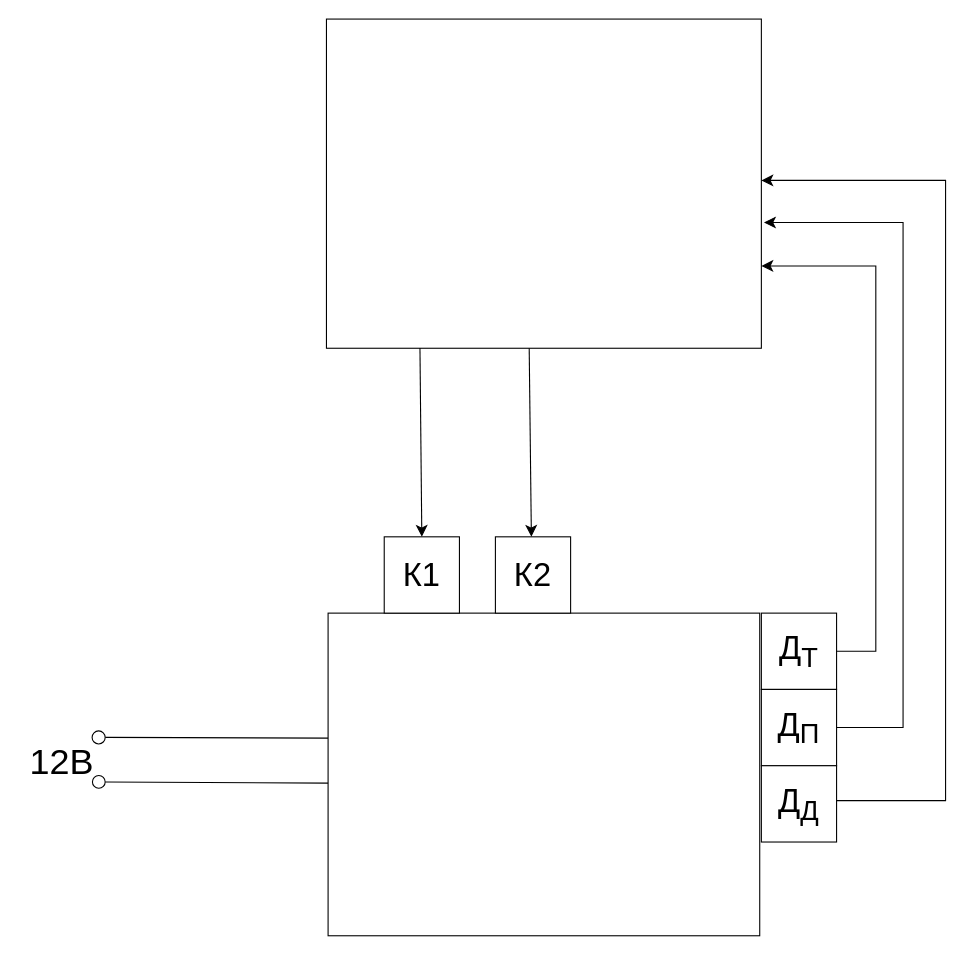
This 976x955 diagram has some shape labels left out. The shapes that lost their labels are listed below. From the top down, each one's centre as x and y in pixels, then its label:
At (x=543, y=183): "УУ".
At (x=543, y=774): "ОУ".
